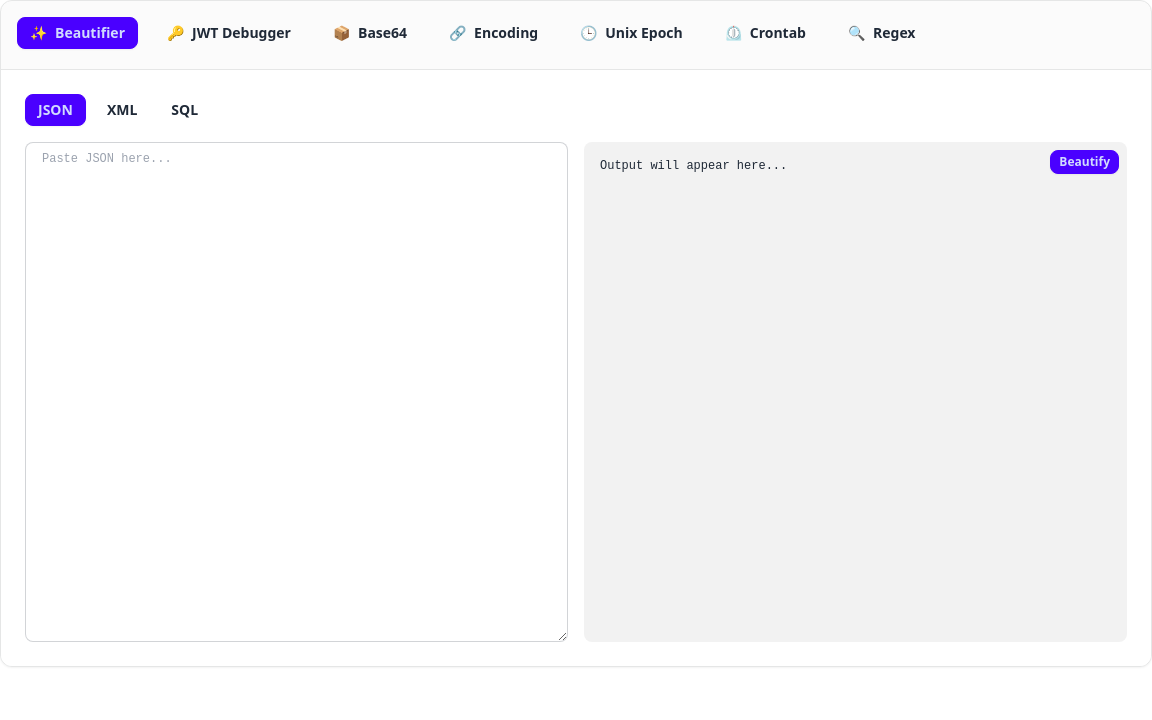
Tools Component › switches to JWT Debugger tab
Click the button "🔑 JWT Debugger". click: click(229, 33)
box: 154,17 -> 304,49
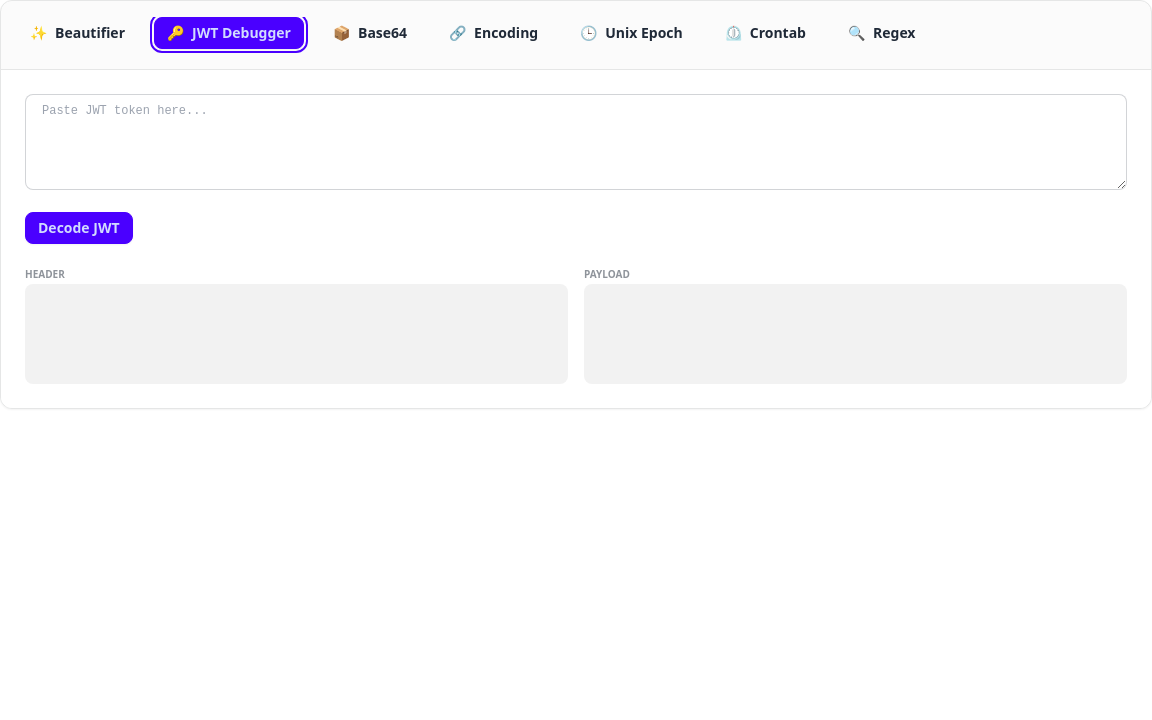
Result: the button "Decode JWT" is shown at 25,212 -> 133,244
Result: the text box with placeholder "Paste JWT token here..." is shown at 25,94 -> 1127,190
